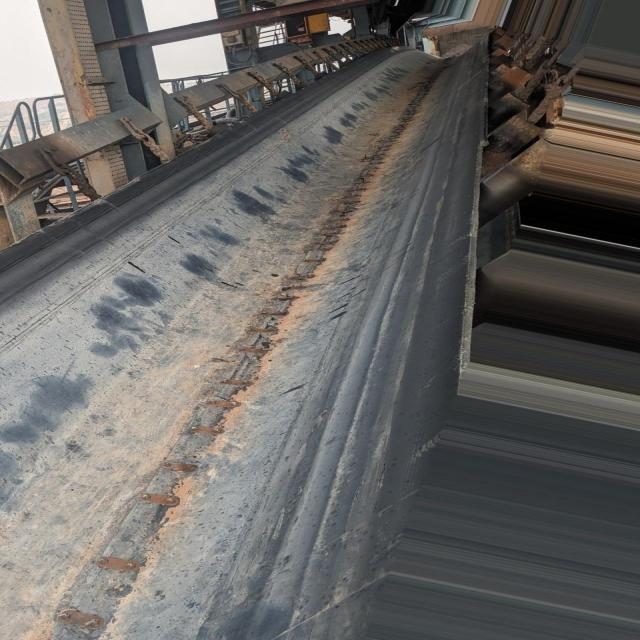Roller: (481, 138, 541, 227), (487, 92, 529, 130)
patch work: (34, 45, 470, 640)
